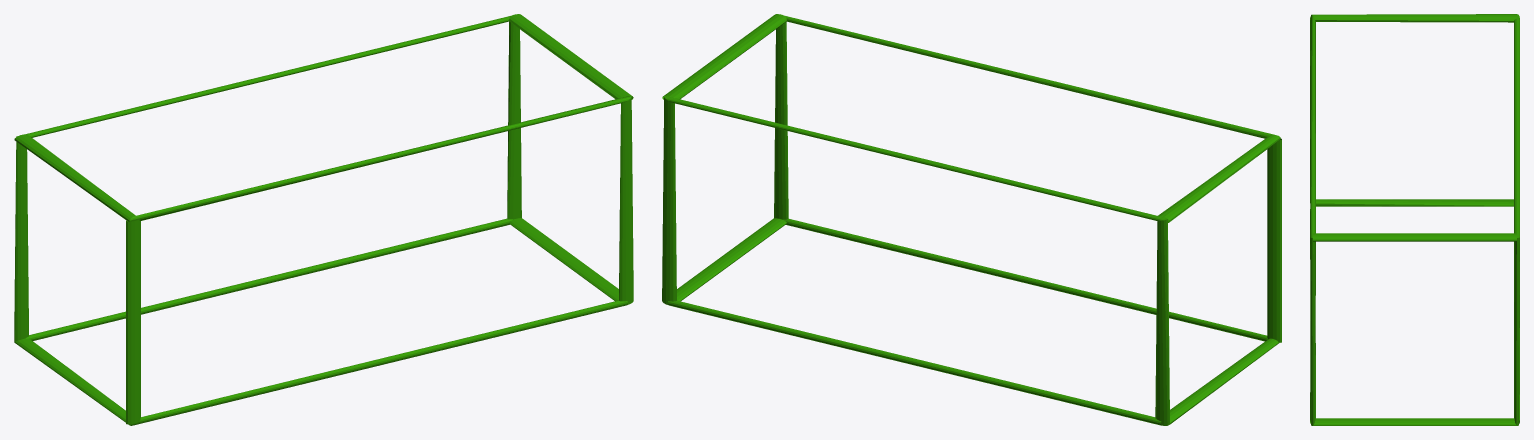
Rendered from balokwire.glb.
3 renders of one model, left to right at view 1: azimuth 30°, elevation 25°; view 2: azimuth 150°, elevation 25°; view 3: azimuth 270°, elevation 25°, orthographic. The views are drawn at different scales.
Visible parts, largest first — view 1: Cube; view 2: Cube; view 3: Cube.
Part boxes in pixels (x1,y1,x2,y2): Cube: (14, 14, 633, 425); Cube: (662, 14, 1281, 425); Cube: (1310, 14, 1519, 425).
Size of the model in its own units: 5.24 by 2.06 by 2.06.
